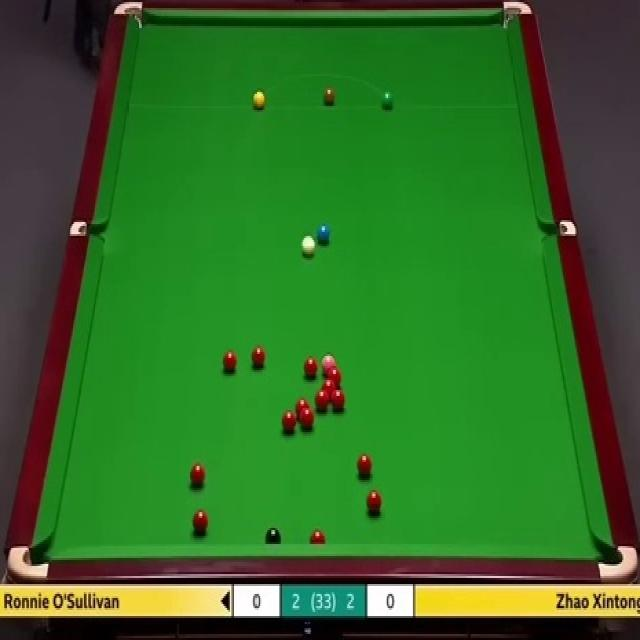black-ball: (265, 526, 281, 546)
blue-ball: (316, 224, 329, 246)
brown-ball: (324, 89, 335, 108)
green-ball: (381, 90, 396, 110)
pink-ball: (321, 352, 336, 369)
red-ball: (192, 508, 210, 536), (366, 488, 383, 514), (280, 409, 297, 434), (357, 454, 372, 480), (221, 349, 237, 373), (299, 407, 315, 431), (189, 462, 204, 487), (250, 346, 266, 368), (309, 526, 326, 546), (314, 390, 329, 412), (304, 356, 318, 377), (331, 391, 346, 410), (326, 368, 342, 384), (294, 398, 310, 412), (322, 379, 337, 391)
white-ball: (300, 232, 316, 256)
yellow-ball: (252, 89, 266, 108)
